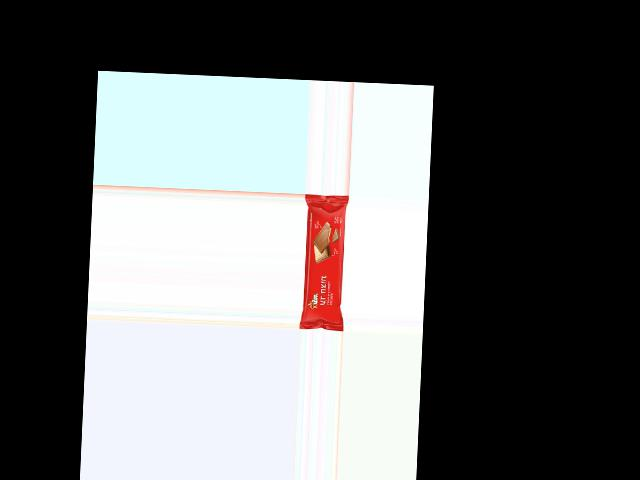chocolate: (299, 195, 350, 327)
